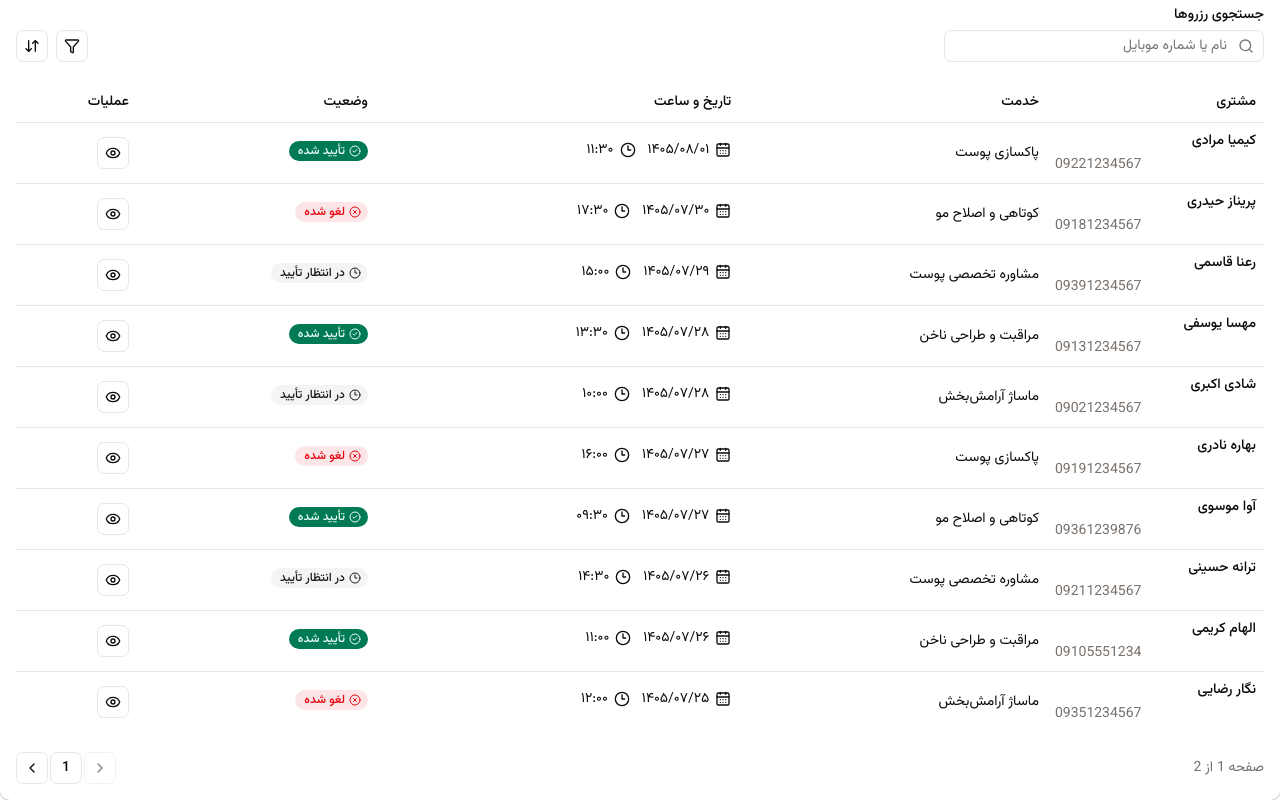
Test: ReservationList › keeps the search input responsive, then filters with the debounced Persian-digit query
(page scrolled)
Click the button named "صفحه بعد": {"x": 32, "y": 768} [16,752,48,784]
(page scrolled)
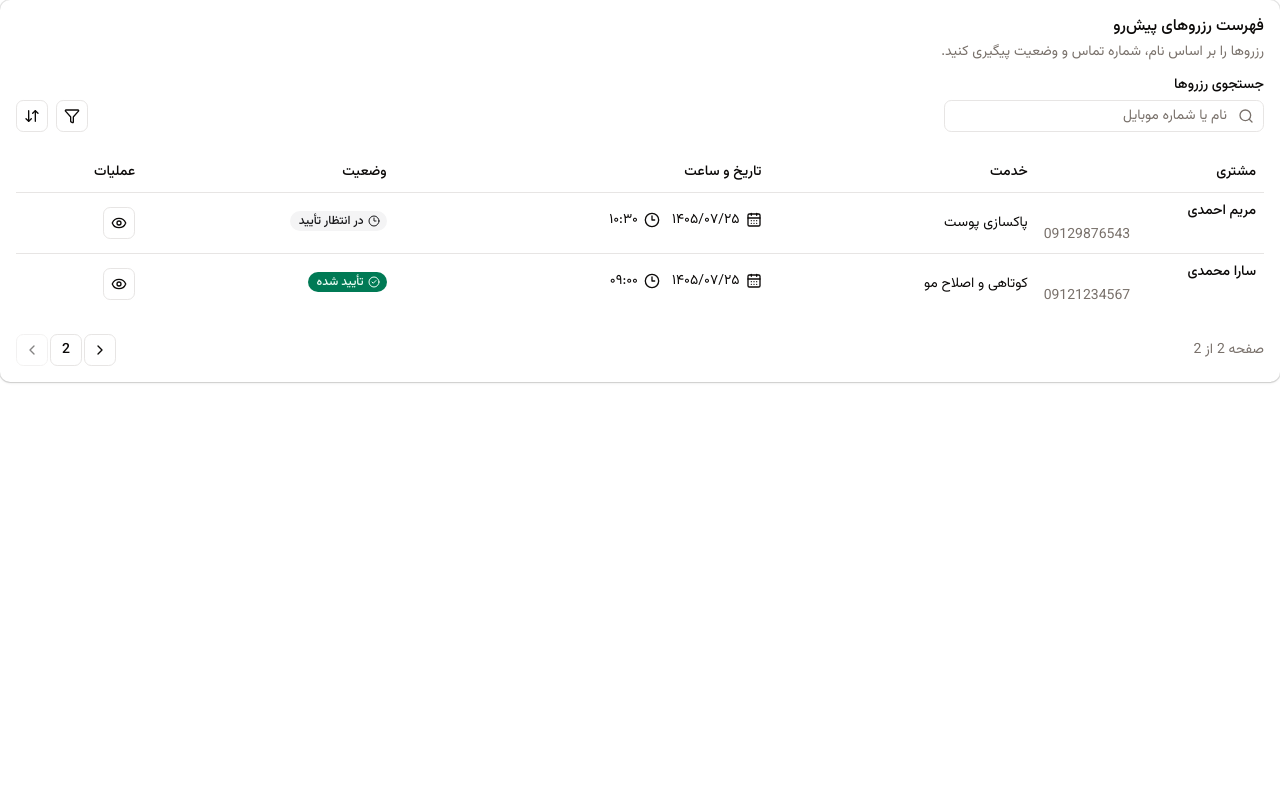
In the field labelled "جستجوی رزروها": {"x": 1104, "y": 116} [944,100,1264,132], type "۹۱۲۱۲۳۴۵۶۷"
Wait 300 ms
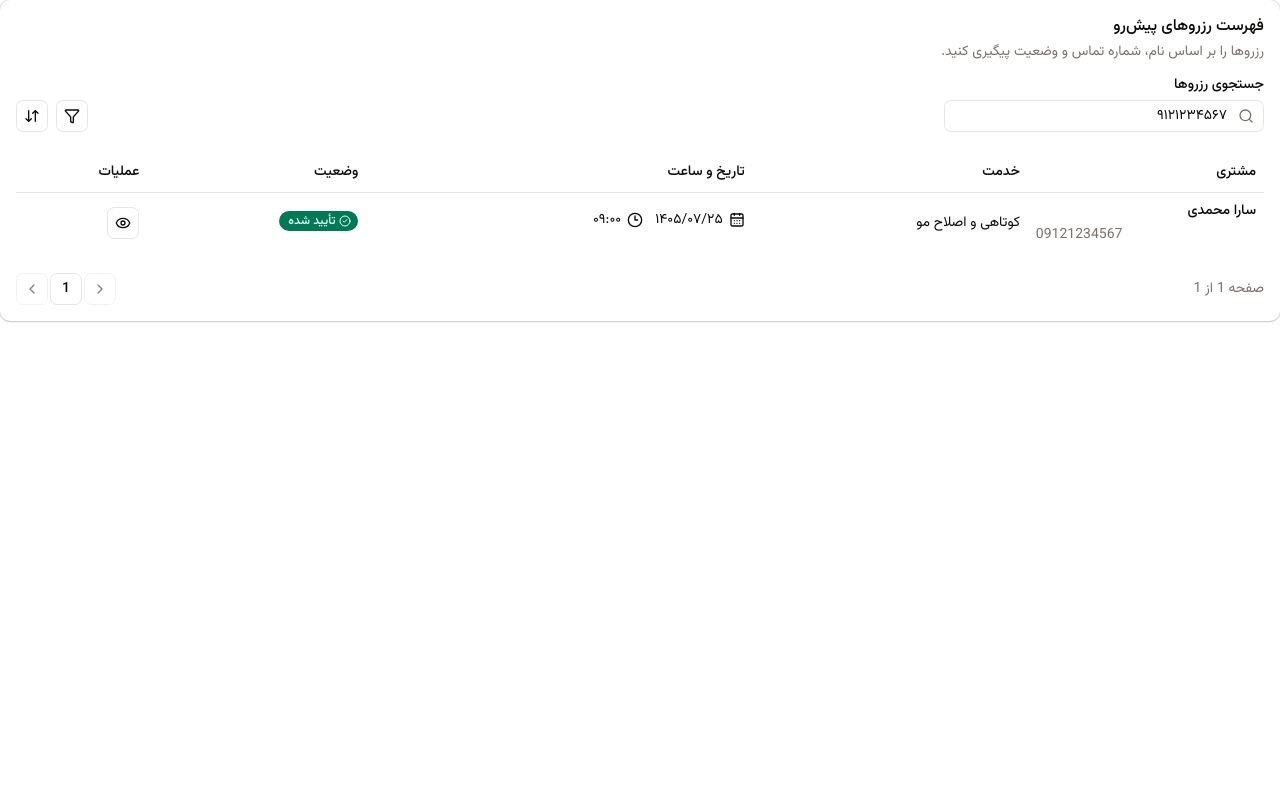
Expected: the icon with class "lucide-search" is shown, [1238,108,1254,124]
Now the text "سارا محمدی" is shown 2 times
Now the text "صفحه 1 از 1" is shown, box [1193,278,1264,298]
